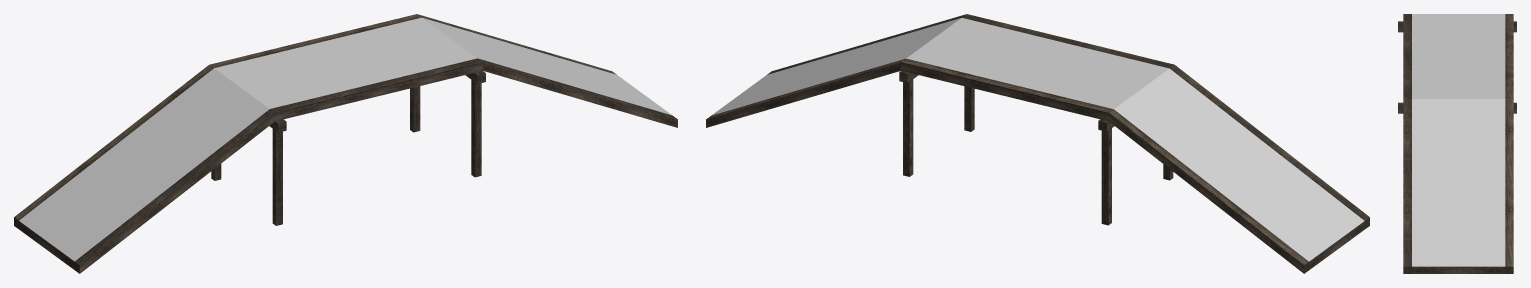
Rendered from WallStairs_1.FBX.
3 renders of one model, left to right at view 1: azimuth 30°, elevation 25°; view 2: azimuth 150°, elevation 25°; view 3: azimuth 270°, elevation 25°, orthographic. The views are drawn at different scales.
Visible parts, largest first — view 1: wallStairs; view 2: wallStairs; view 3: wallStairs.
Boxes of the visible parts, x1,y1,x2,y2 form: wallStairs: (14,14,677,273); wallStairs: (706,14,1369,273); wallStairs: (1398,14,1516,273).
Size of the model in its own units: 88.75 by 16.1 by 18.2.
